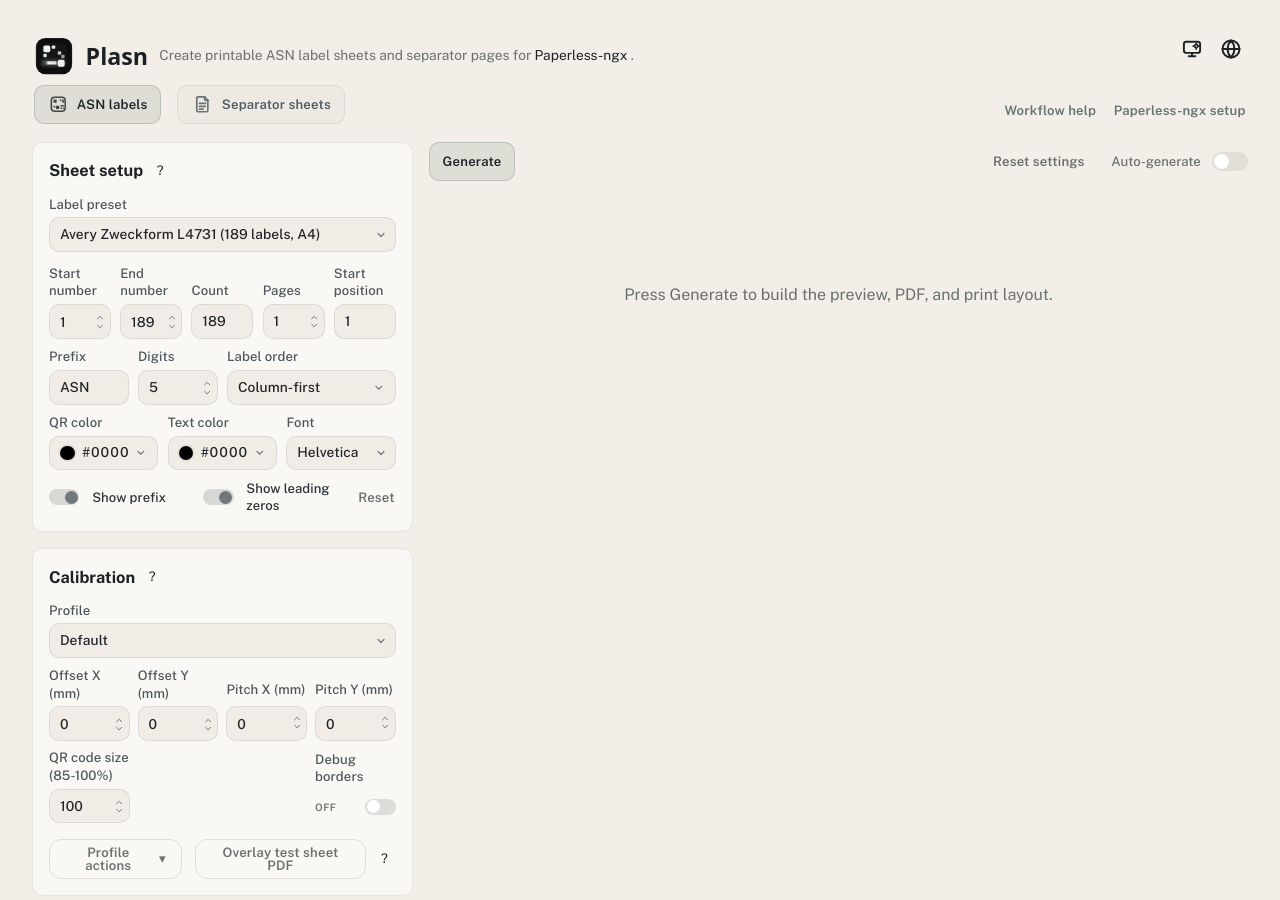
it: App › switches into separator mode and shows separator-specific fields
The width and height of the screenshot is (1280, 900).
Click the button "Separator sheets" at (261, 104), box 177,85 -> 345,124
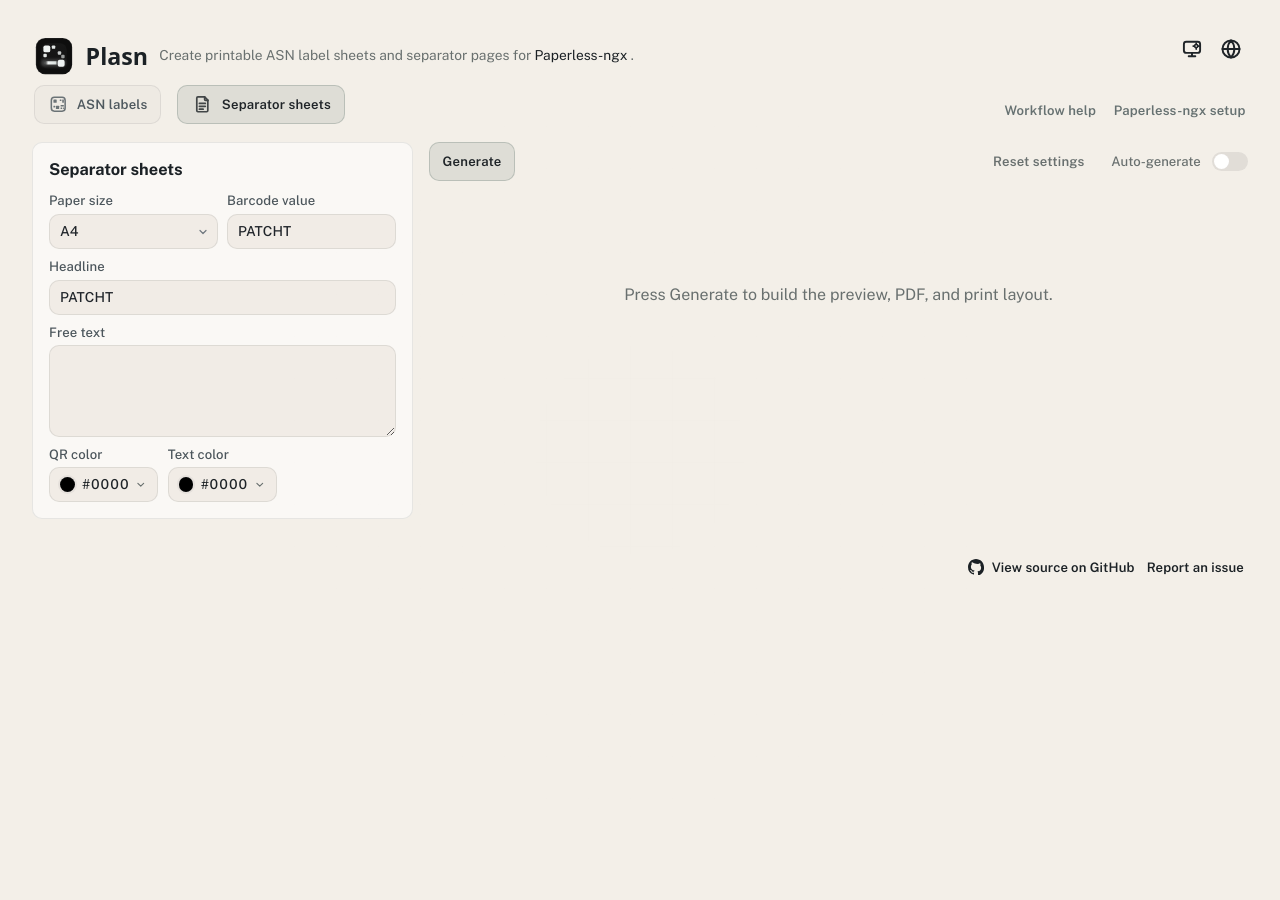
Expected: the field labelled "Barcode value" is shown, 227,214 -> 396,249
Expected: the text "Paper size" is shown, 49,194 -> 113,208
Expected: the text box labelled "Free text" is shown, 49,345 -> 396,437
